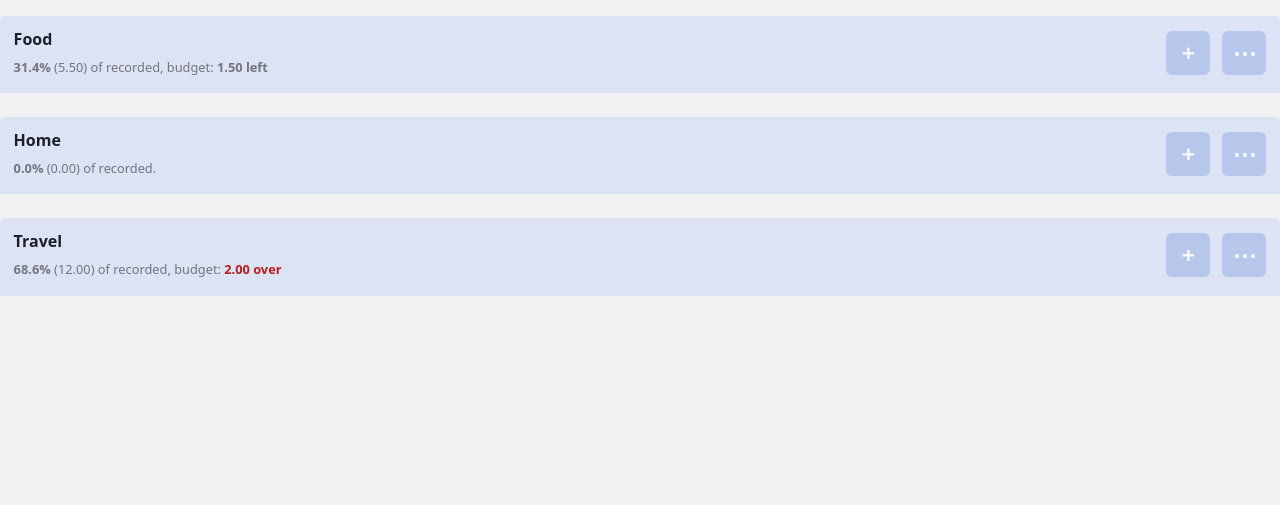
Test case: CategoryItemsTable › keeps the add form open when expanding the item list
Click the button named "Open add form for Food".
click(1188, 53)  # box [1166, 31, 1210, 75]
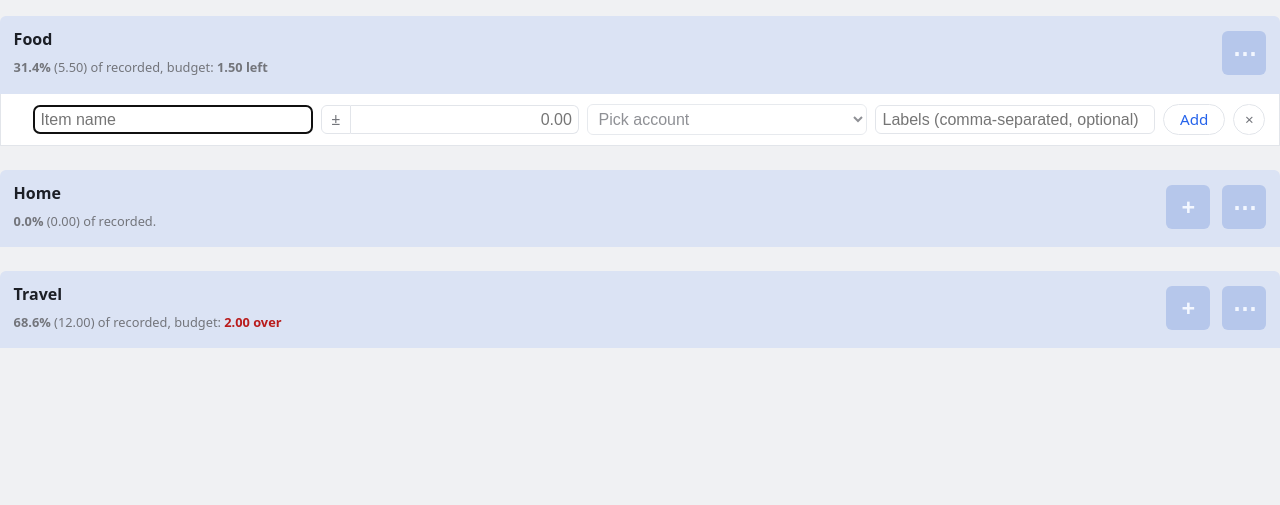
Click the button named "Food item list menu".
click(1244, 53)  # box [1222, 31, 1266, 75]
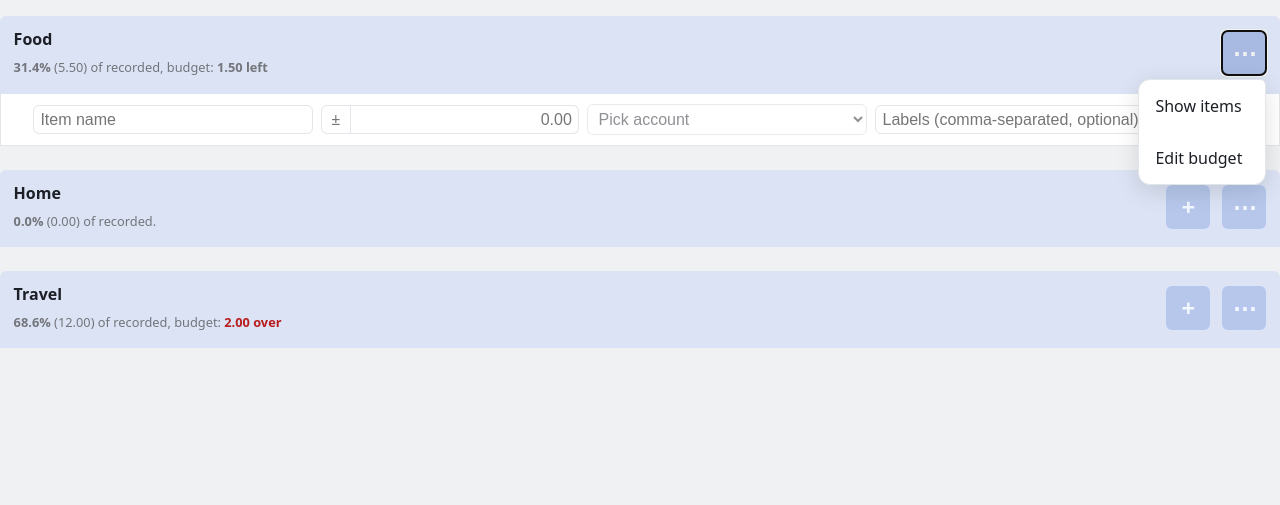
Click the menu item "Show items".
click(1202, 106)  # box [1143, 84, 1261, 128]
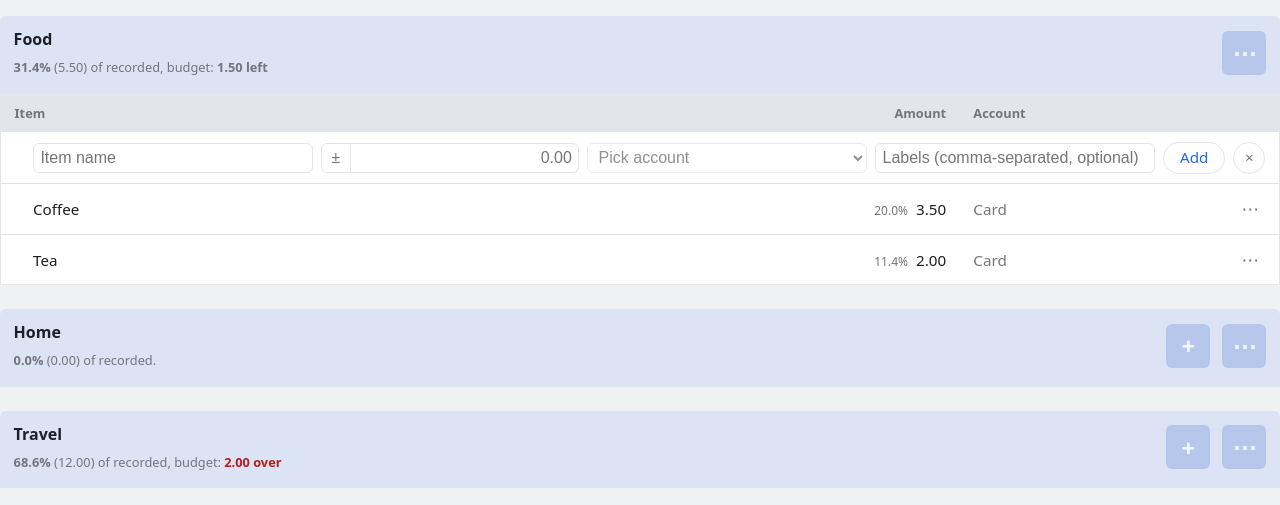
Now the field named "New item name" is shown, box [33, 143, 313, 173]
Now the text "Coffee" is shown, box [33, 199, 79, 219]
